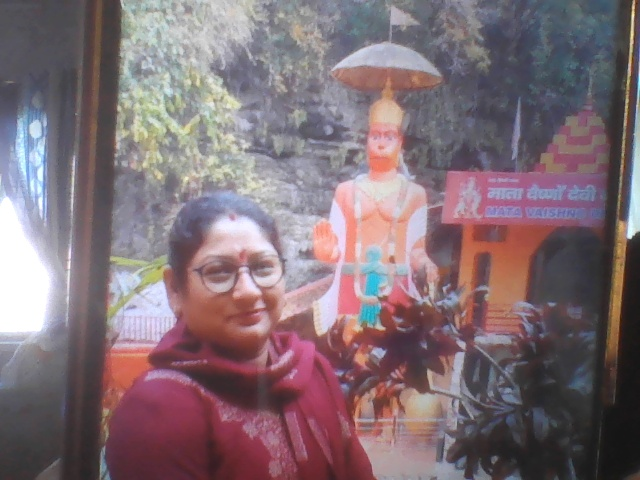fake: (174, 188, 297, 363)
